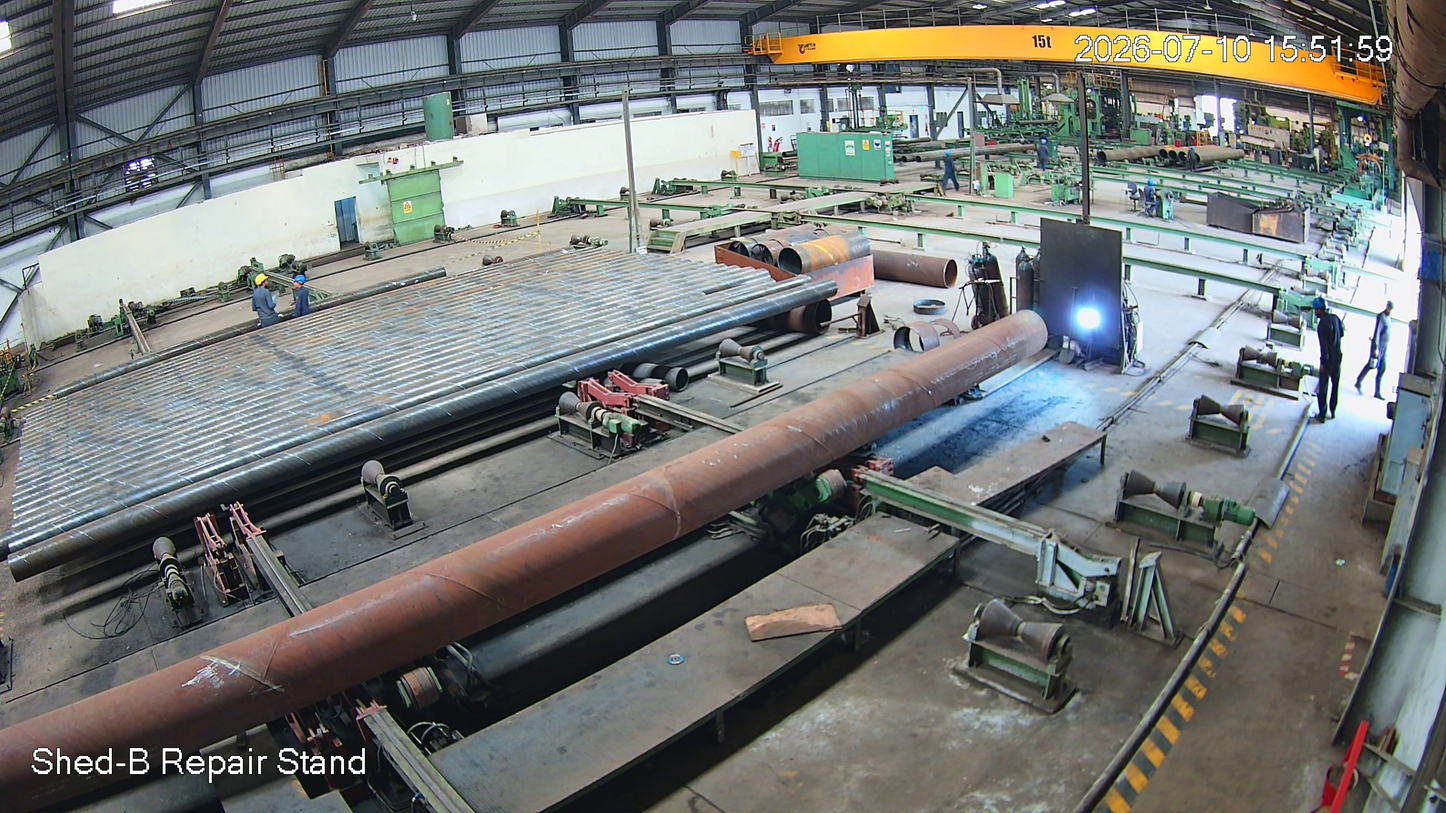Helmet: (1309, 294, 1332, 324), (250, 273, 274, 296), (291, 273, 308, 293)
Person: (1307, 296, 1348, 424), (1352, 299, 1404, 398), (249, 275, 282, 331), (289, 274, 313, 317)
